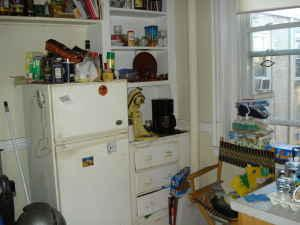Electrodomestico: (51, 87, 130, 224)
